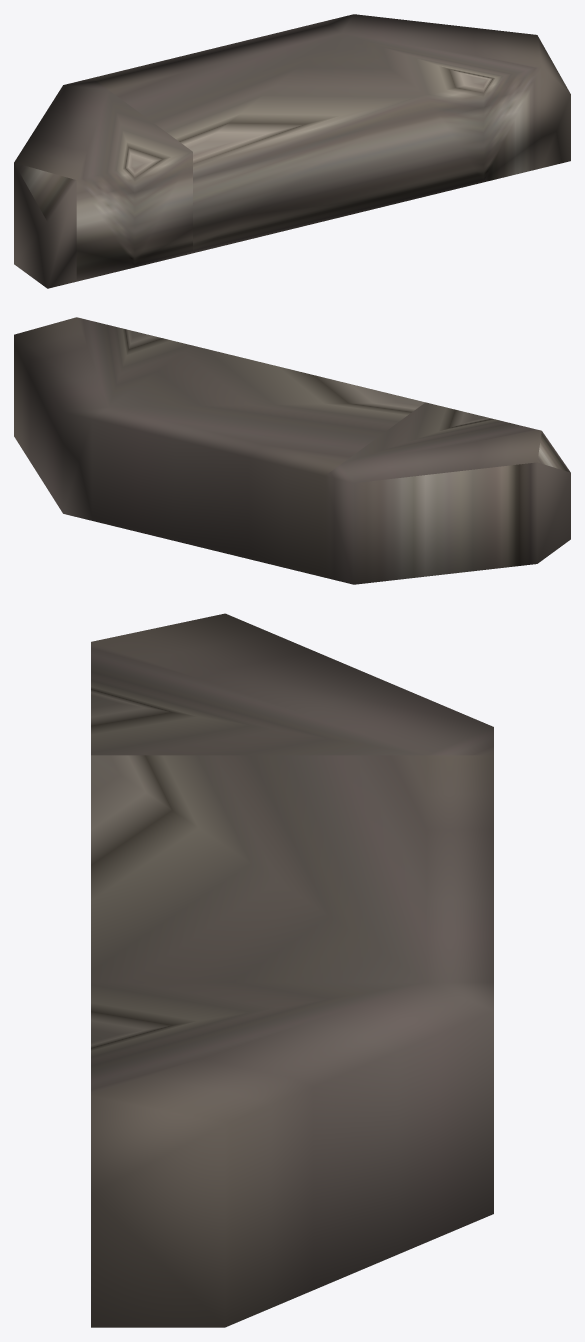
File: towerblock_roof4.glb
3 renders of one model, top to bottom at view 1: azimuth 30°, elevation 25°; view 2: azimuth 150°, elevation 25°; view 3: azimuth 270°, elevation 25°, orthographic. The views are drawn at different scales.
Visible parts, largest first — view 1: towerblock_roof4; view 2: towerblock_roof4; view 3: towerblock_roof4.
Boxes of the visible parts, left/top/right/bottom form: towerblock_roof4: left=14, top=14, right=570, bottom=288; towerblock_roof4: left=14, top=317, right=570, bottom=584; towerblock_roof4: left=91, top=613, right=493, bottom=1327.
Size of the model in its own units: 9 by 1.67 by 3.
1 material, 1 textured.
